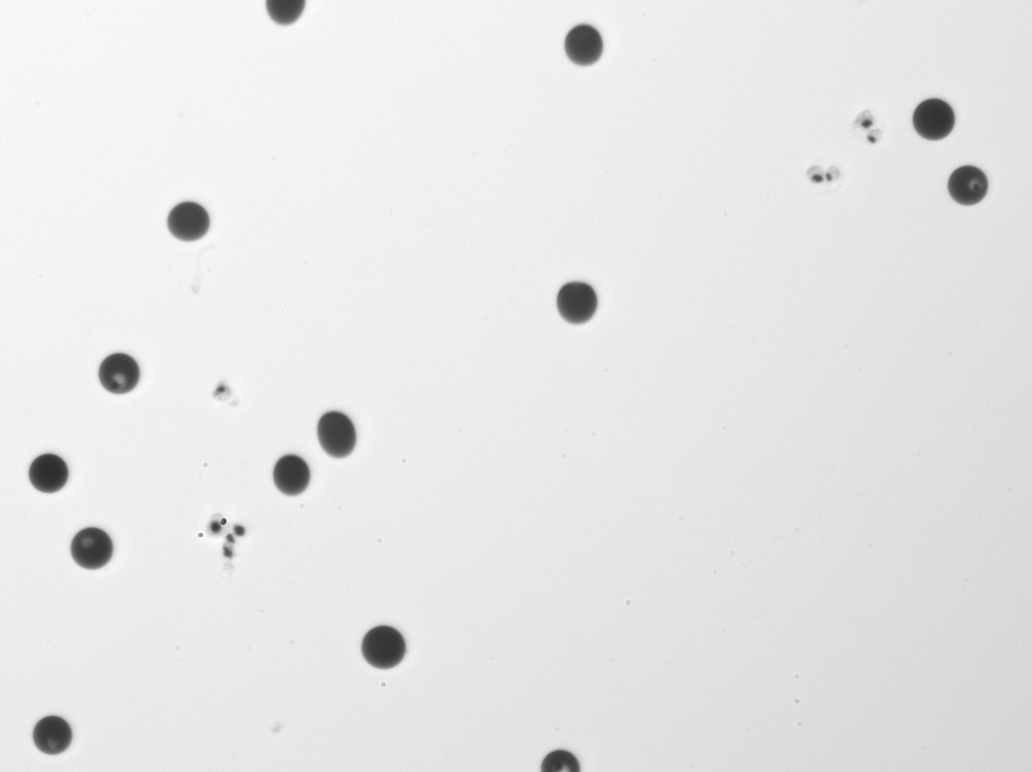healthy: (361, 623, 406, 668), (912, 99, 956, 142), (317, 410, 356, 458), (556, 280, 598, 323), (98, 352, 140, 394), (167, 201, 210, 242), (28, 452, 69, 492), (564, 25, 603, 67), (273, 453, 310, 495), (265, 0, 305, 25)
misc: (201, 511, 251, 579), (806, 160, 845, 197), (851, 111, 884, 152), (211, 381, 240, 413)
ring: (70, 526, 113, 568), (32, 713, 73, 753)
trophozoite: (947, 165, 989, 207), (541, 749, 580, 772)
